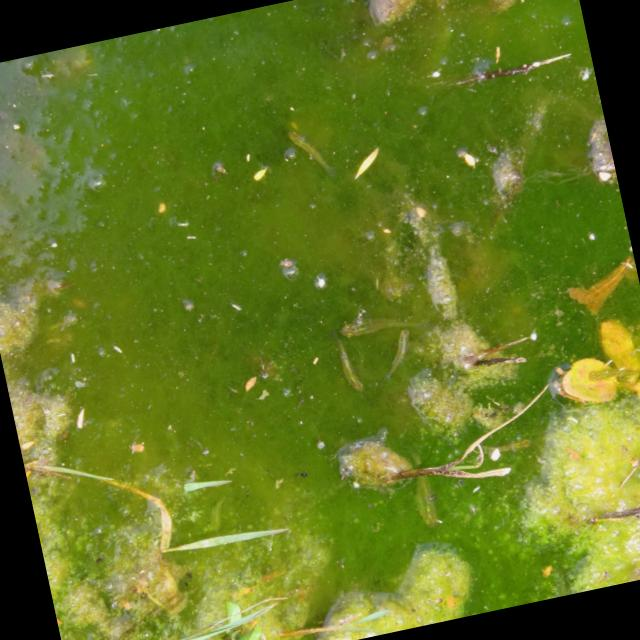Sivrisinek Baligi: (336, 304, 416, 339), (286, 121, 332, 175), (381, 330, 418, 378), (329, 338, 362, 391)
